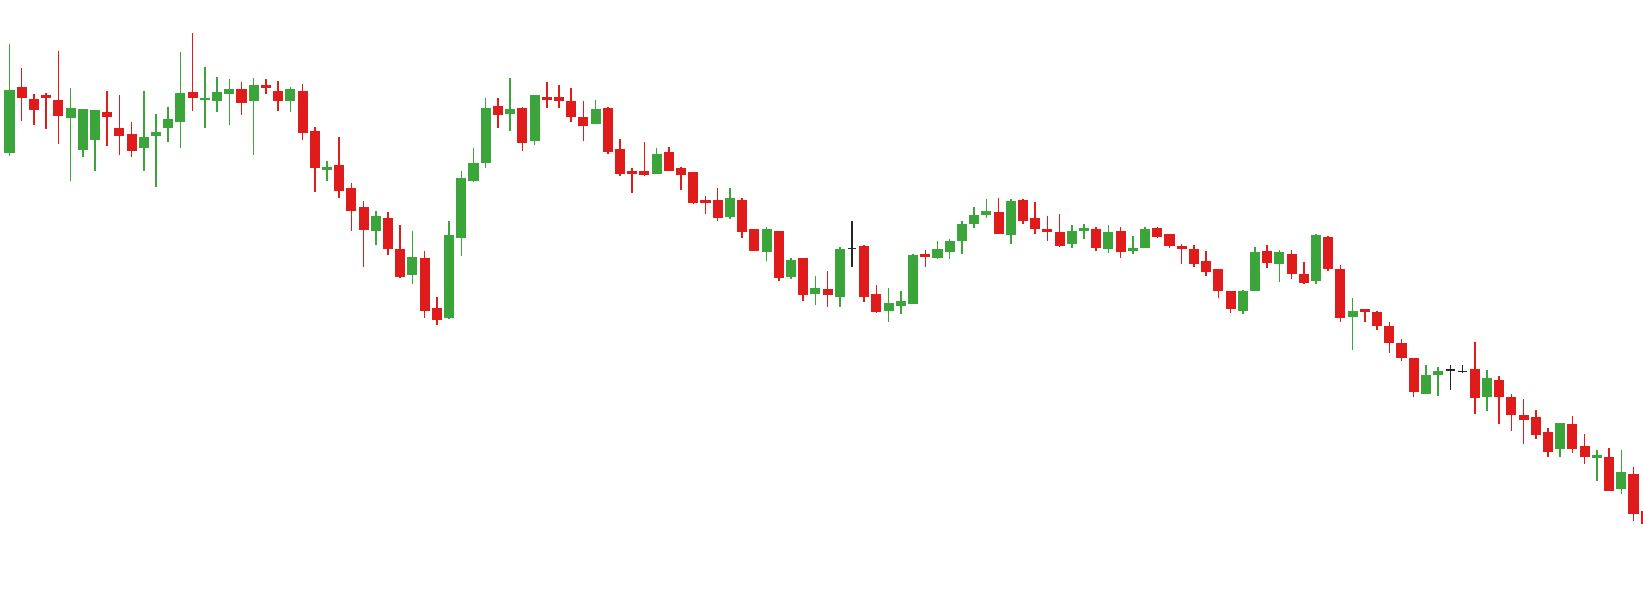sell: (1247, 230, 1334, 286)
